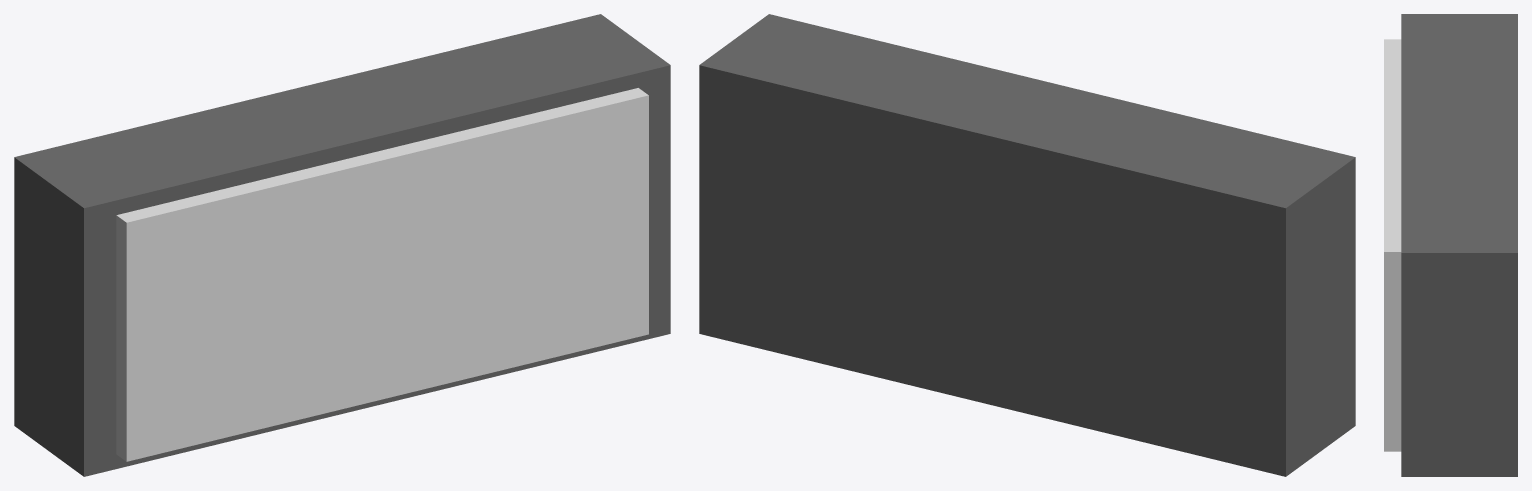
Rendered from H_Entrance_light.fbx.
The picture shows the model from 3 angles, left to right: view 1: azimuth 30°, elevation 25°; view 2: azimuth 150°, elevation 25°; view 3: azimuth 270°, elevation 25°; orthographic projection. The views are drawn at different scales.
Visible parts, largest first — view 1: H_Entrance_light; view 2: H_Entrance_light; view 3: H_Entrance_light.
Part boxes in pixels (bbox=[...]): H_Entrance_light: bbox=[14, 14, 670, 476]; H_Entrance_light: bbox=[699, 14, 1355, 476]; H_Entrance_light: bbox=[1384, 14, 1517, 476].
Size of the model in its own units: 260 by 61.65 by 114.
